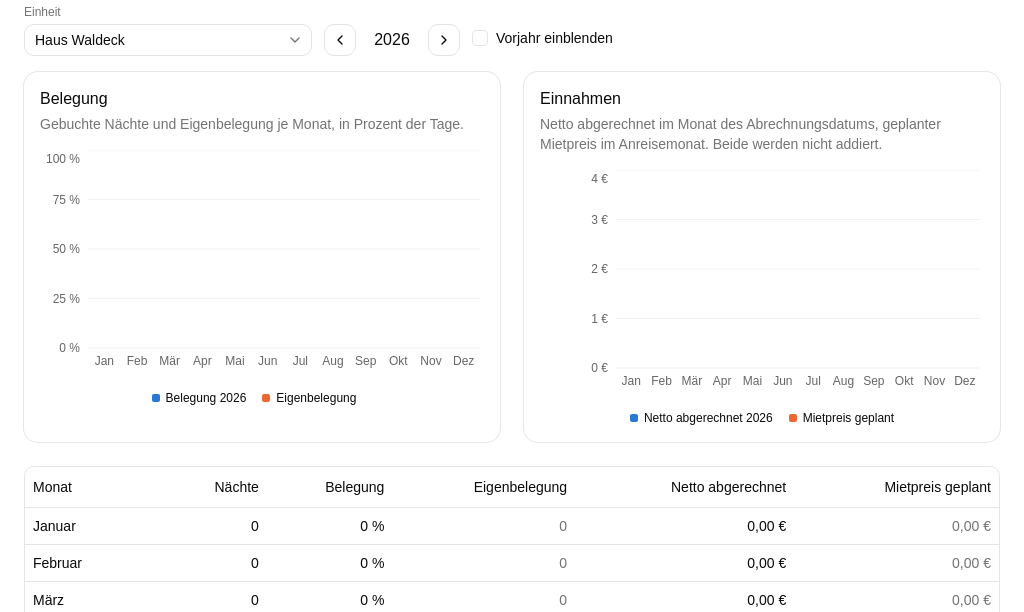
Evaluation charts › adds the previous year with the switch, kept in the address
The width and height of the screenshot is (1024, 612).
Click the checkbox named "Vorjahr einblenden".
click(480, 38)  # box [472,30,488,46]
(page scrolled)
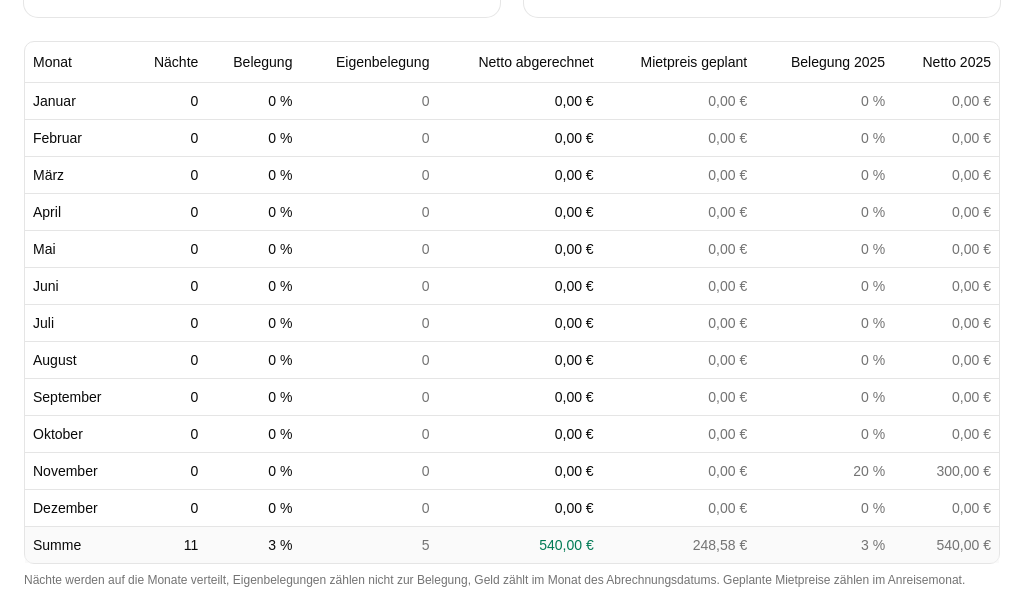
Check: the text "20 %" is shown, box [755,452,893,489]
Check: the text "300,00 €" is shown, box [936,462,991,478]
